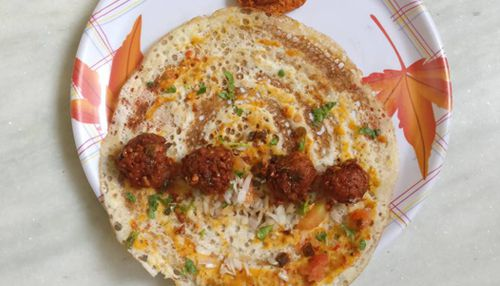dosa: (99, 7, 394, 286)
